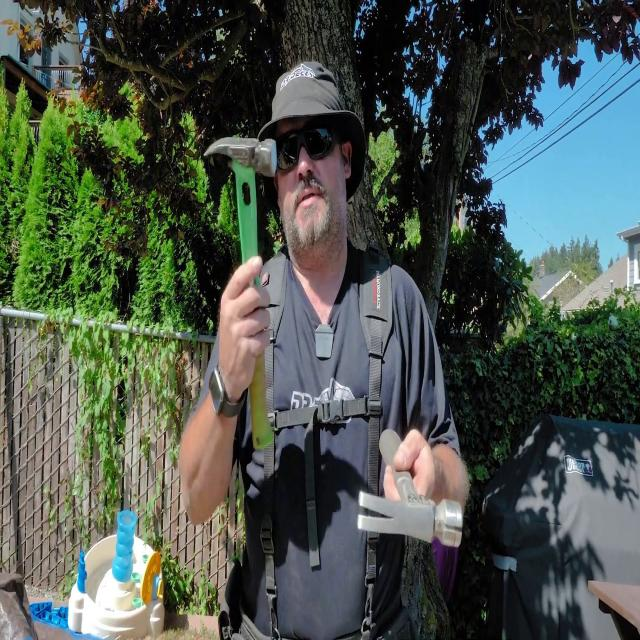hammer: (204, 136, 278, 450), (357, 426, 463, 548)
